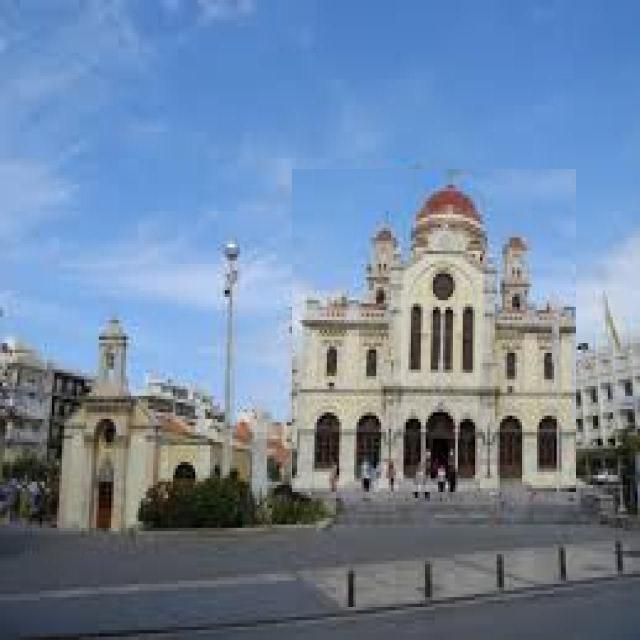Agios Minas: (293, 170, 577, 493)
